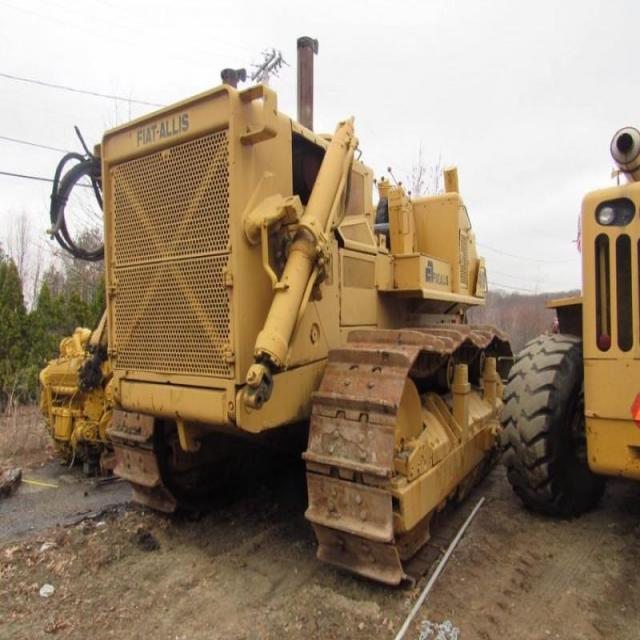Bulldozer: (66, 41, 558, 570)
